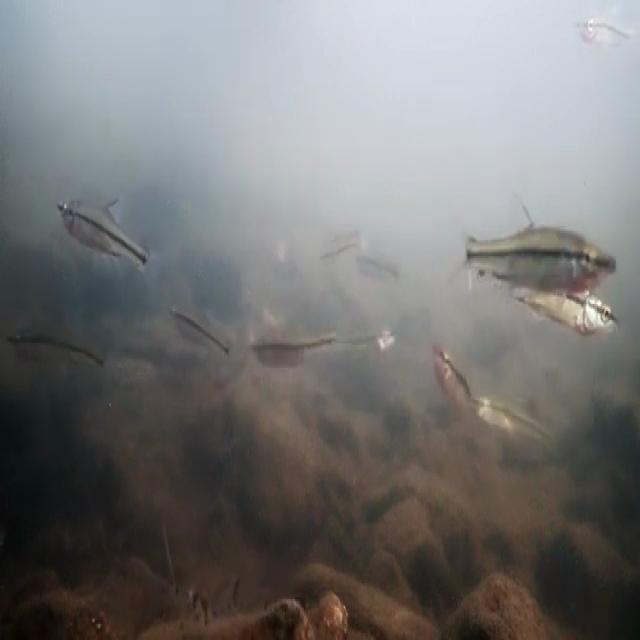Cakil Baligi: (446, 202, 620, 296), (54, 192, 158, 277), (161, 295, 238, 367), (426, 344, 480, 416)
